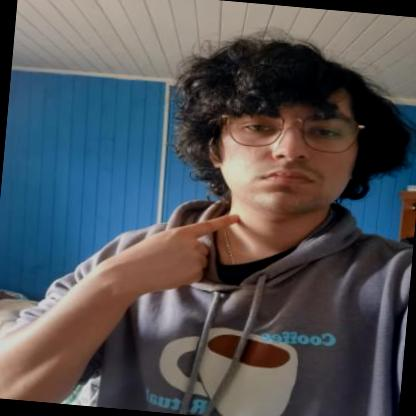Q: (90, 202, 242, 298)
